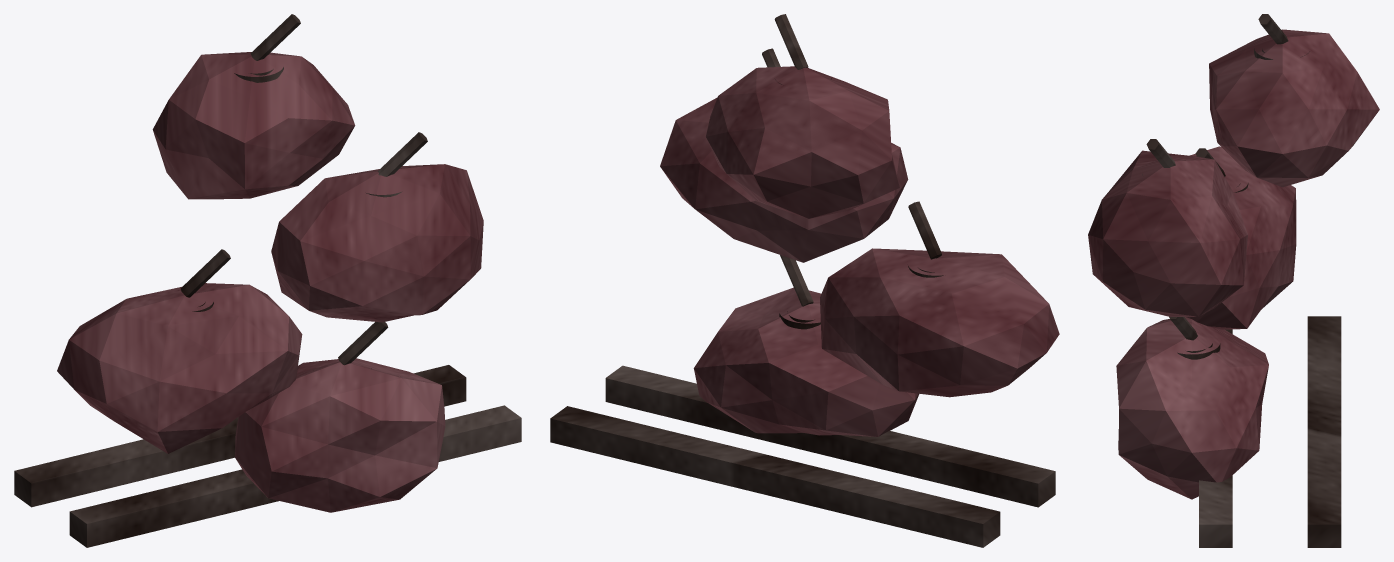
Rendered from 0823_sack_stack_23.glb.
3 views of the same model, side by side, from view 1: azimuth 30°, elevation 25°; view 2: azimuth 150°, elevation 25°; view 3: azimuth 270°, elevation 25° (orthographic).
Visible parts, largest first — view 1: cloth, wood_dark; view 2: cloth, wood_dark; view 3: cloth, wood_dark.
Part boxes in pixels (x1,y1,x2,y2): cloth: (57, 52, 483, 512); wood_dark: (14, 14, 521, 547); cloth: (660, 66, 1059, 436); wood_dark: (550, 14, 1055, 547); cloth: (1088, 29, 1379, 499); wood_dark: (1142, 14, 1341, 547).
Bounding box in the file's own units: 1.91 × 1.94 × 1.13.
2 materials, 2 textured.
